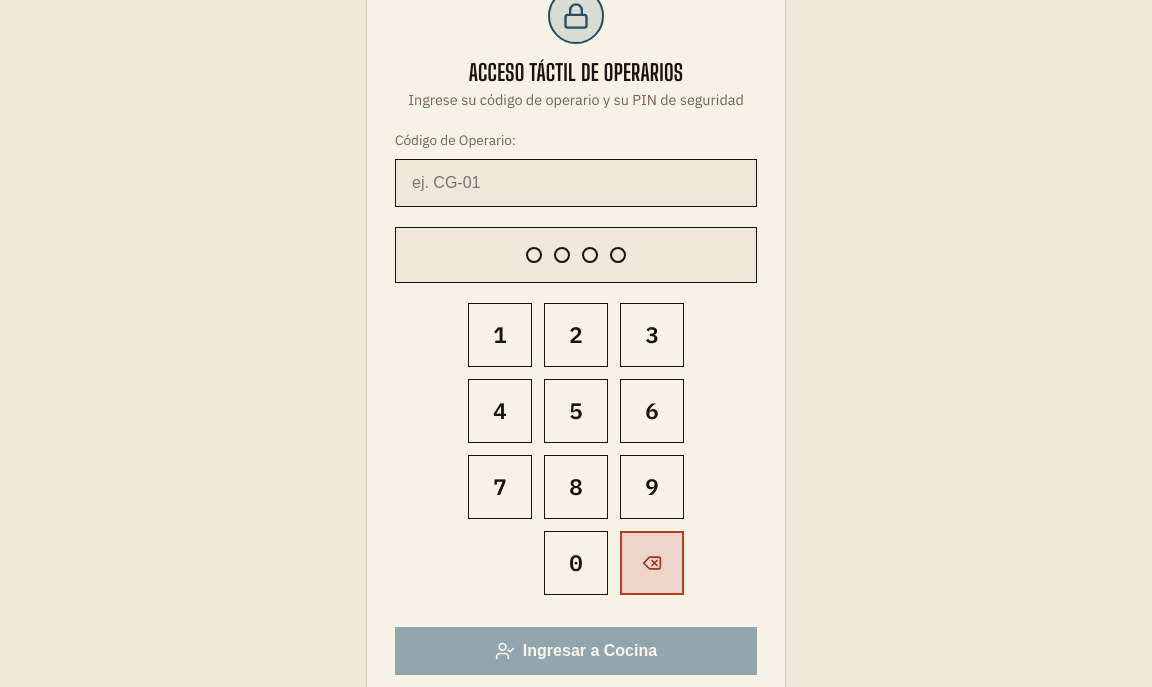
Test case: TK-007-FE: Tactile PIN Login Screen TDD Suite › debe permitir ingresar digitos en el PinPad y activar la mascara de seguridad
In the field labelled "Código de Operario:": (576, 183) left=395, top=159, right=757, bottom=207, type "bootstrap-admin"
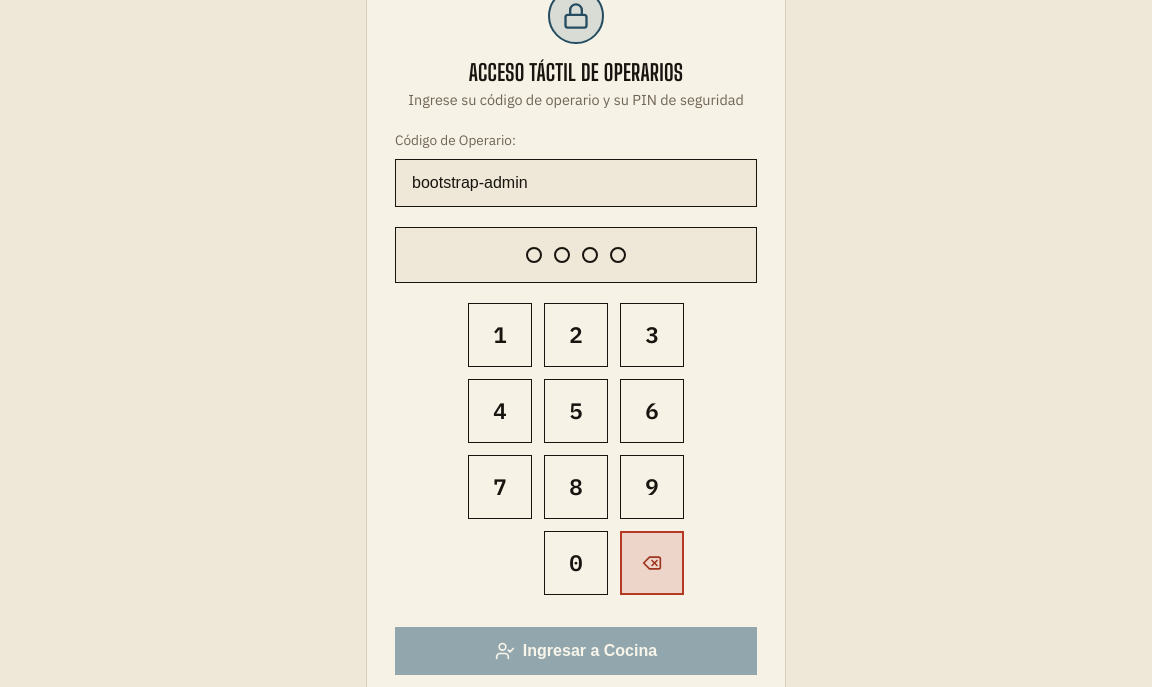
Click the button "1": (500, 335) left=468, top=303, right=532, bottom=367
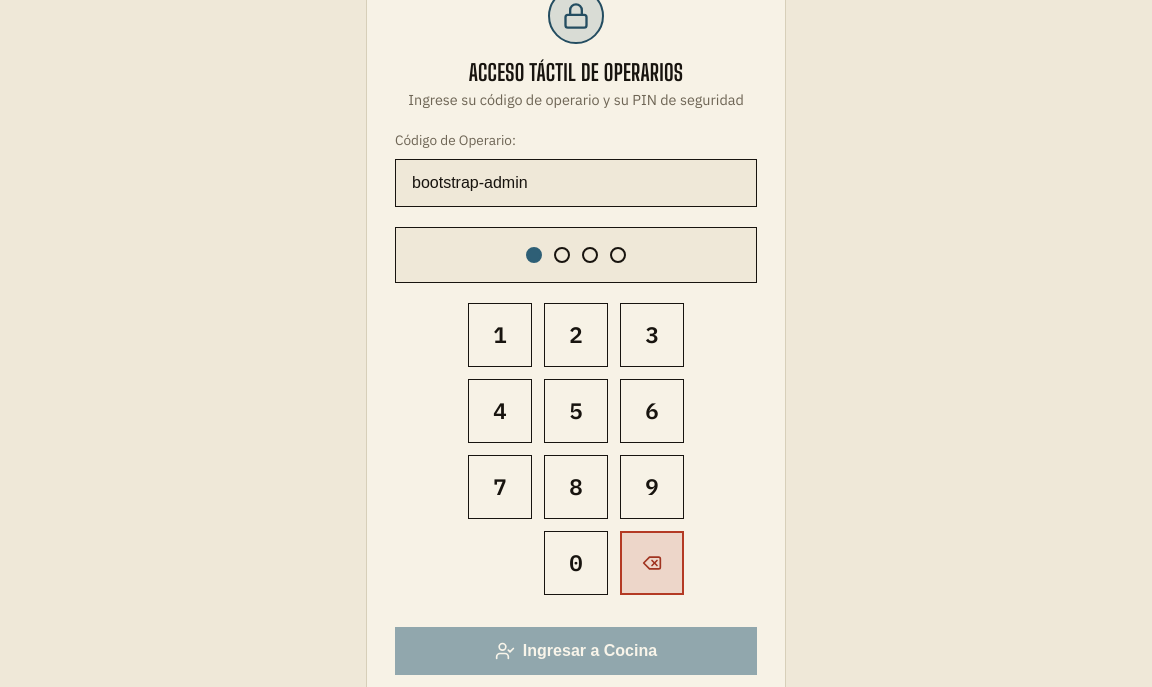
Click the button "2": (576, 335) left=544, top=303, right=608, bottom=367
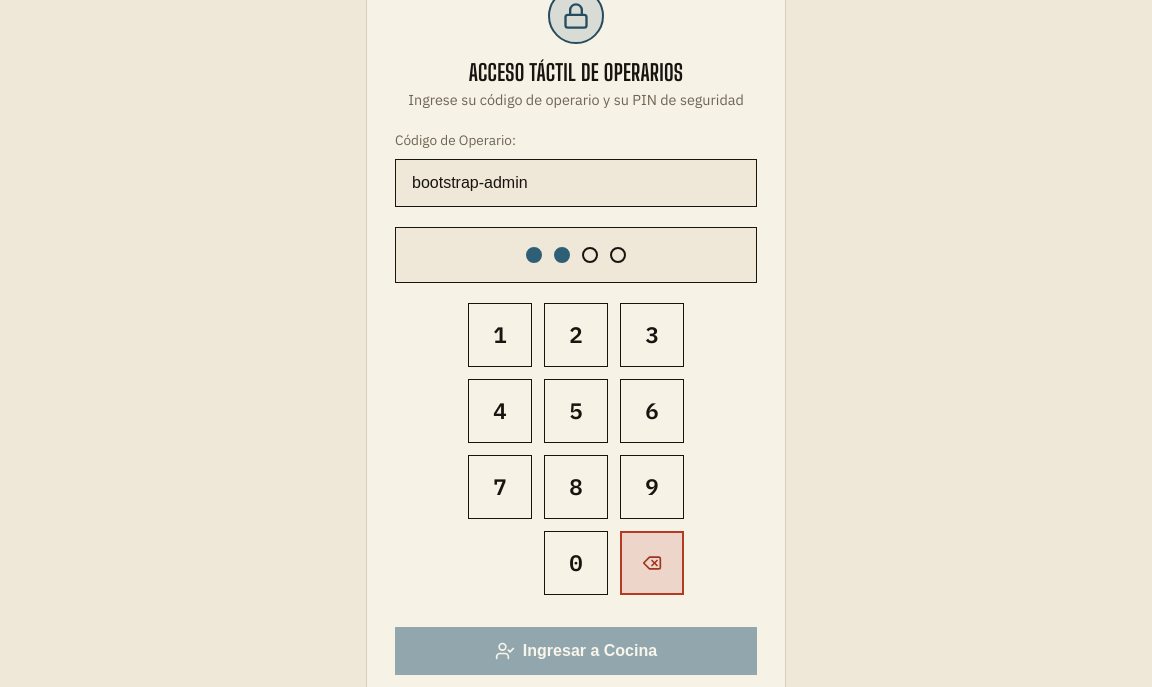
Click the button "3": (652, 335) left=620, top=303, right=684, bottom=367
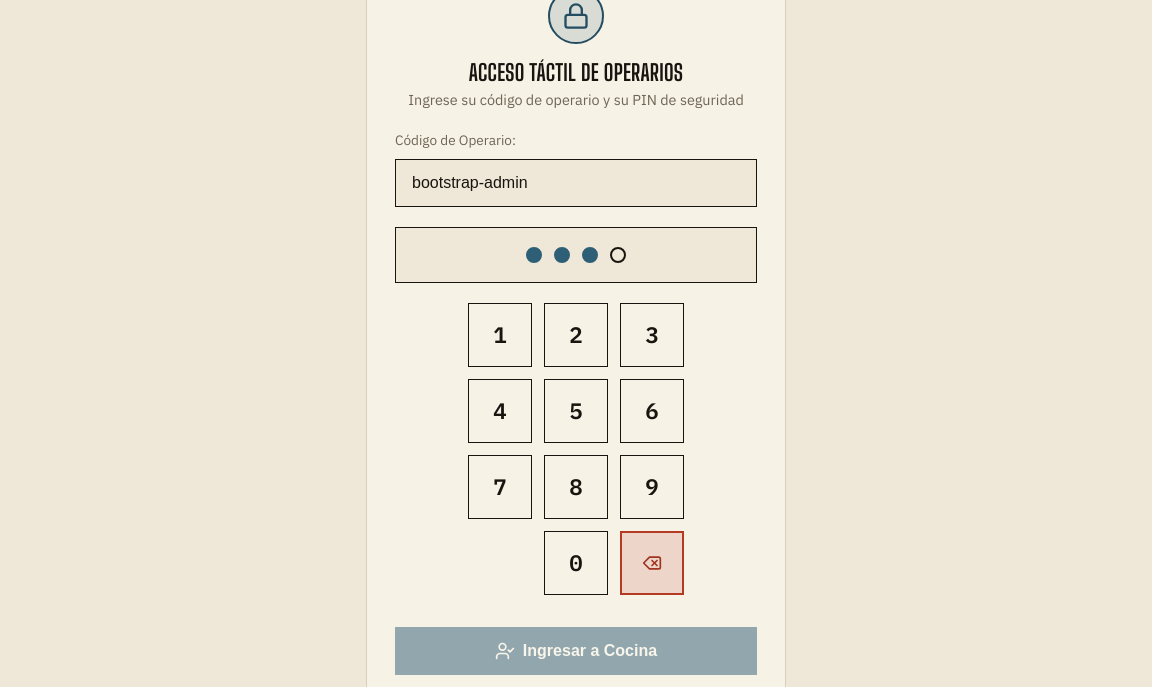
Click the button "4": (500, 411) left=468, top=379, right=532, bottom=443
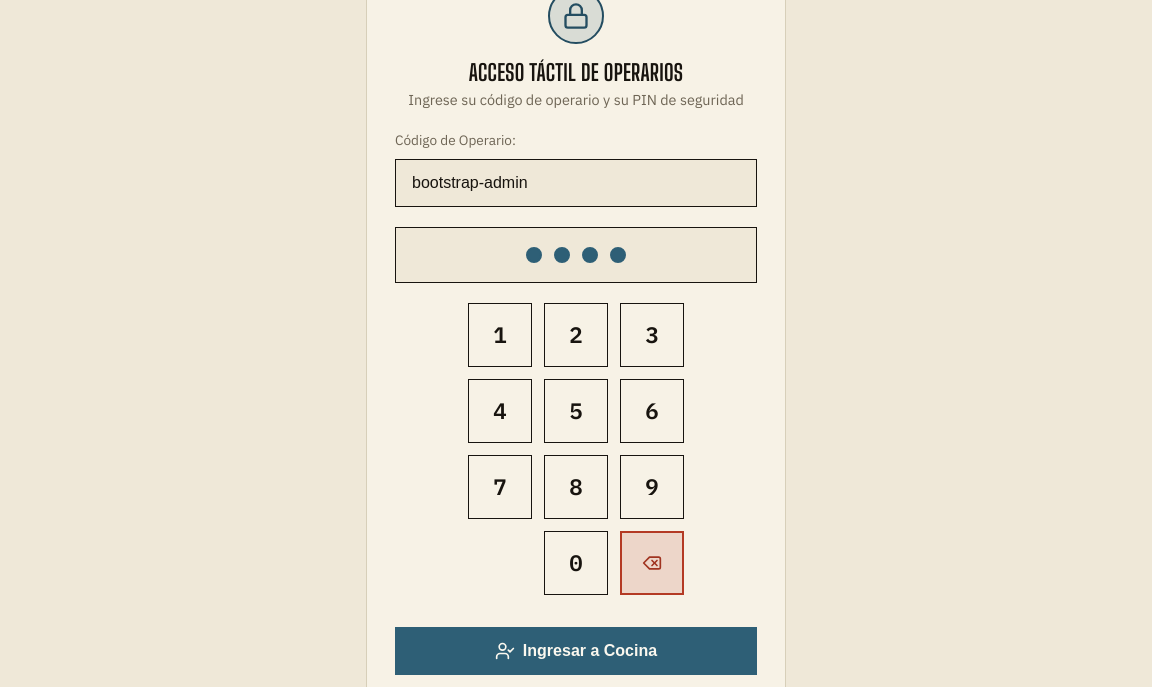
Check: the button "Ingresar a Cocina" is enabled, box left=395, top=627, right=757, bottom=675
